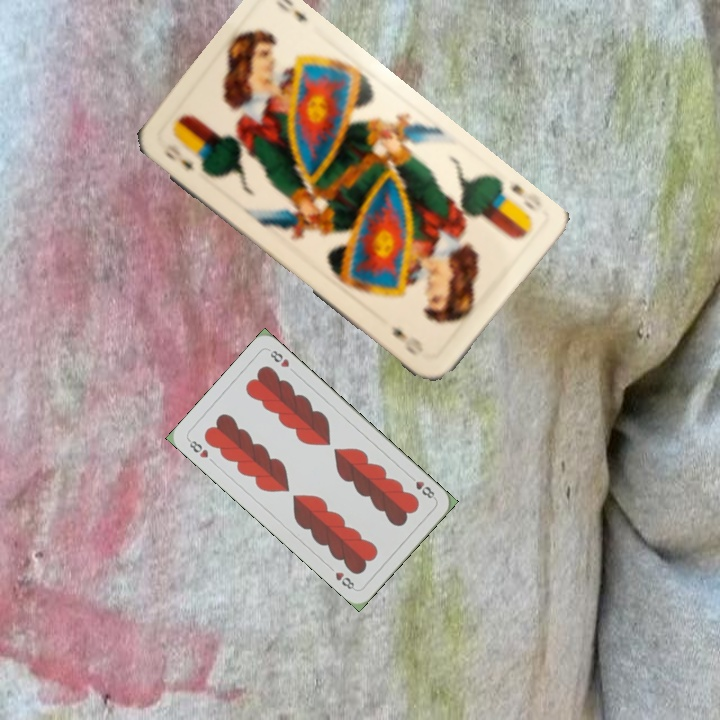EO: (504, 175, 543, 215), (159, 140, 196, 173)
H8: (405, 471, 438, 502), (184, 435, 211, 461)
